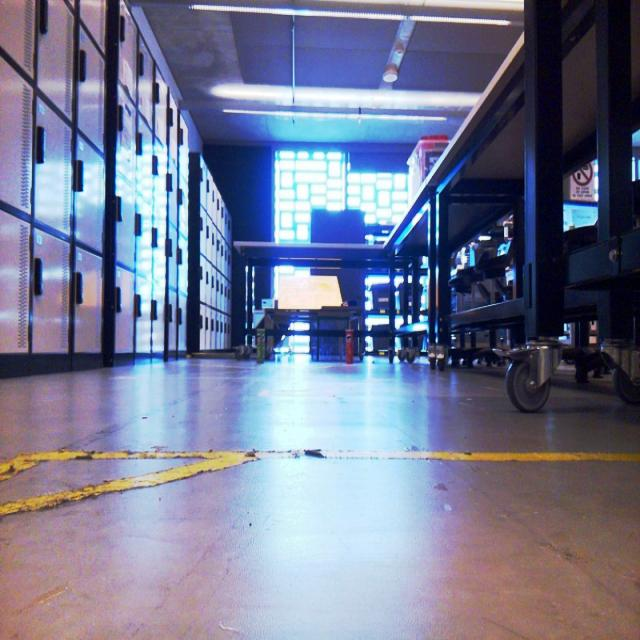greenpringles: (248, 319, 275, 373)
redpringles: (334, 324, 363, 368)
